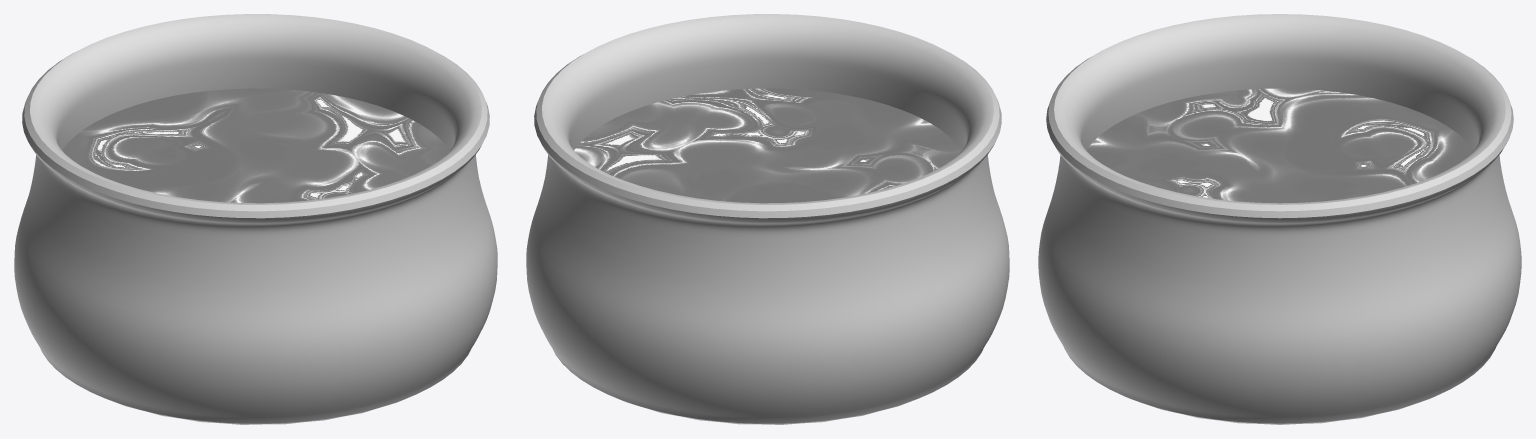
Rendered from mobile.glb.
3 views of the same model, side by side, from view 1: azimuth 30°, elevation 25°; view 2: azimuth 150°, elevation 25°; view 3: azimuth 270°, elevation 25° (orthographic).
Visible parts, largest first — view 1: SM_DemoCauldron; view 2: SM_DemoCauldron; view 3: SM_DemoCauldron.
Boxes of the visible parts, x1,y1,x2,y2 form: SM_DemoCauldron: [14, 14, 497, 424]; SM_DemoCauldron: [526, 14, 1009, 424]; SM_DemoCauldron: [1038, 14, 1521, 424].
Bounding box in the file's own units: 1.08 × 0.5669 × 1.08.
Materials: 2 (1 with a texture image).
